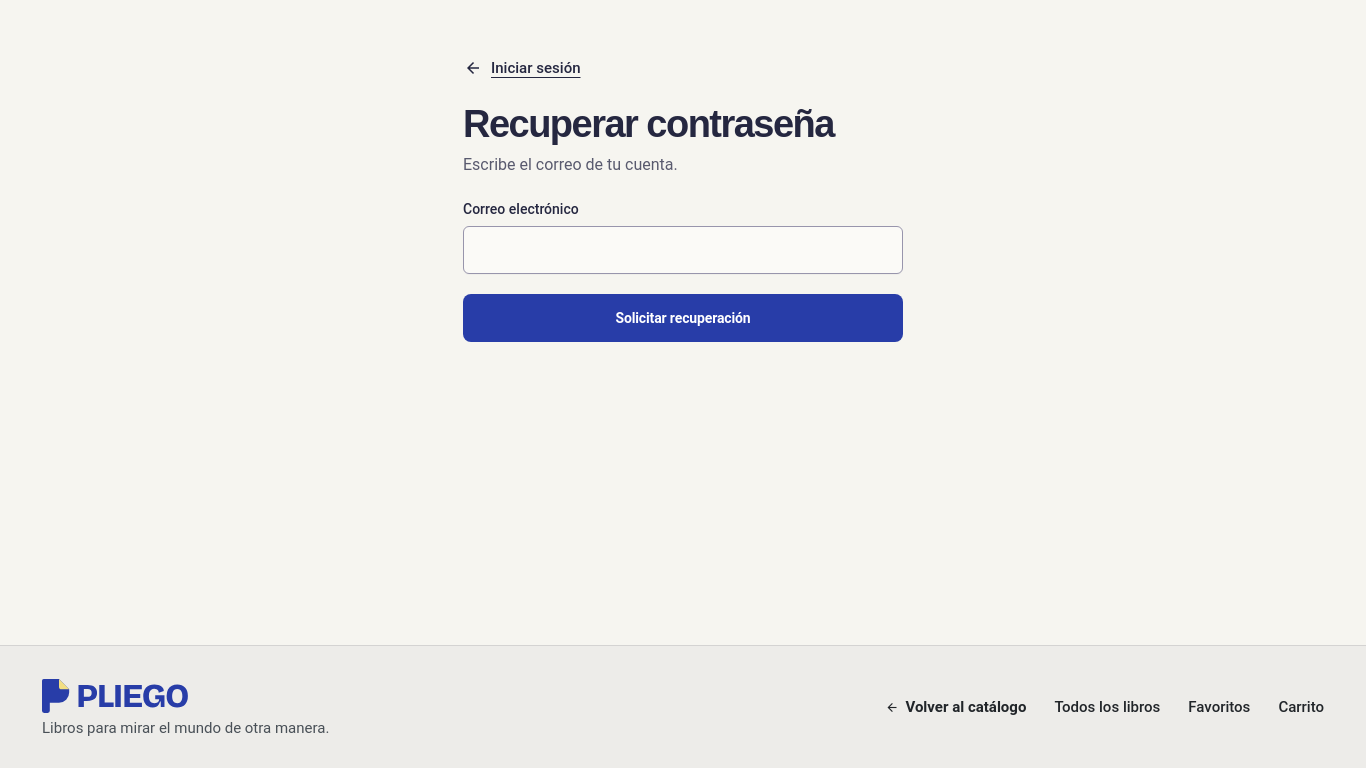
Test: customer email actions › validates then submits /recuperar-contrasena with neutral accepted feedback
Click the button "Solicitar recuperación" at (683, 318), box [463,294,903,342]
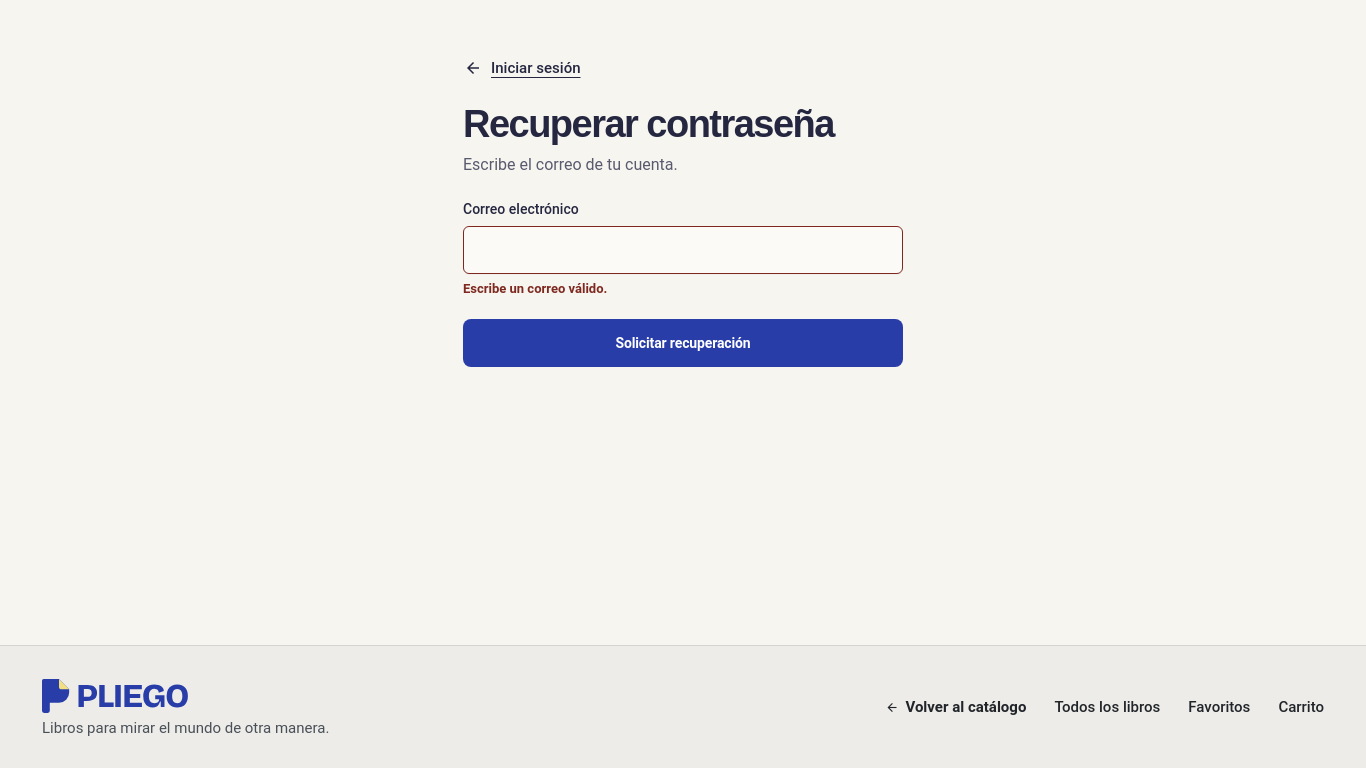
Check: the message reads "Escribe un correo válido.", box [463,281,607,296]
Type "ANA@EXAMPLE.COM" into the field labelled "Correo electrónico" at (683, 250), box [463,226,903,274]
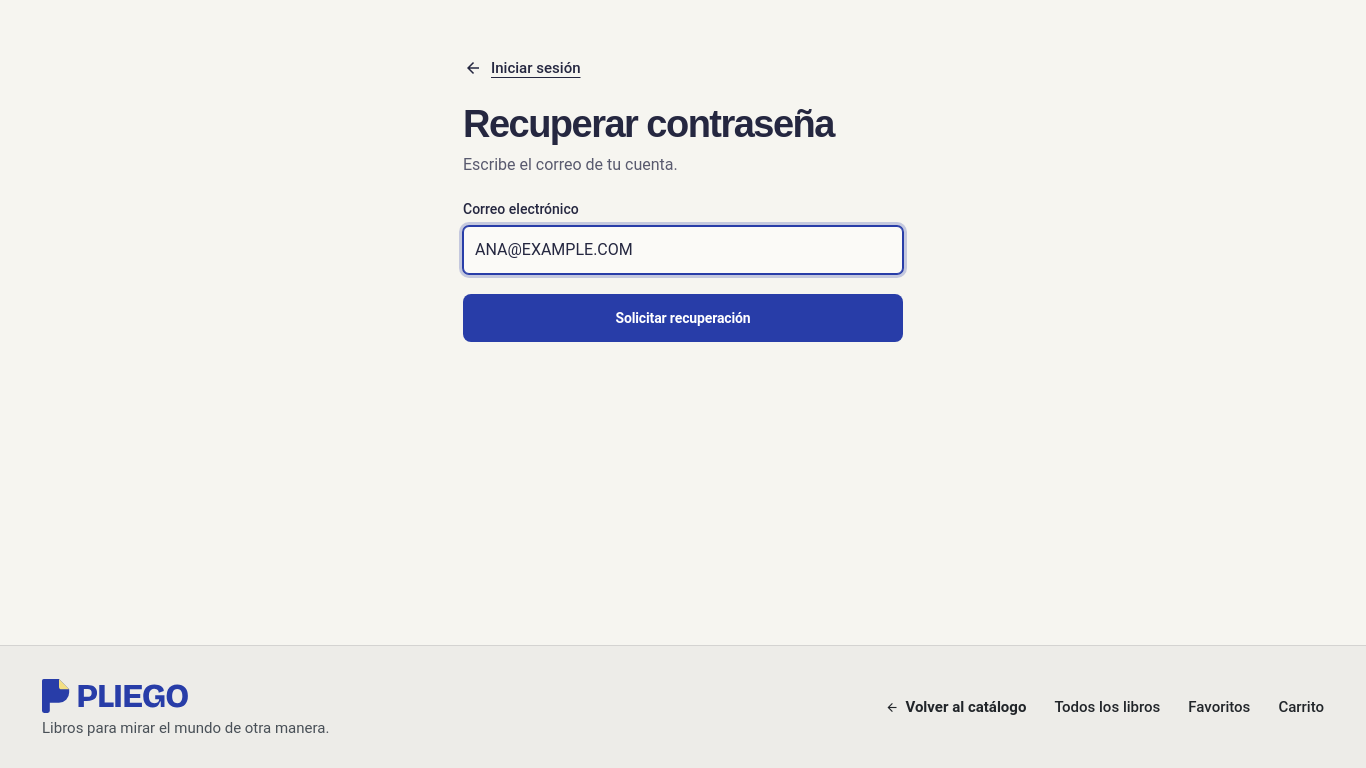
Click the button "Solicitar recuperación" at (683, 318), box [463,294,903,342]
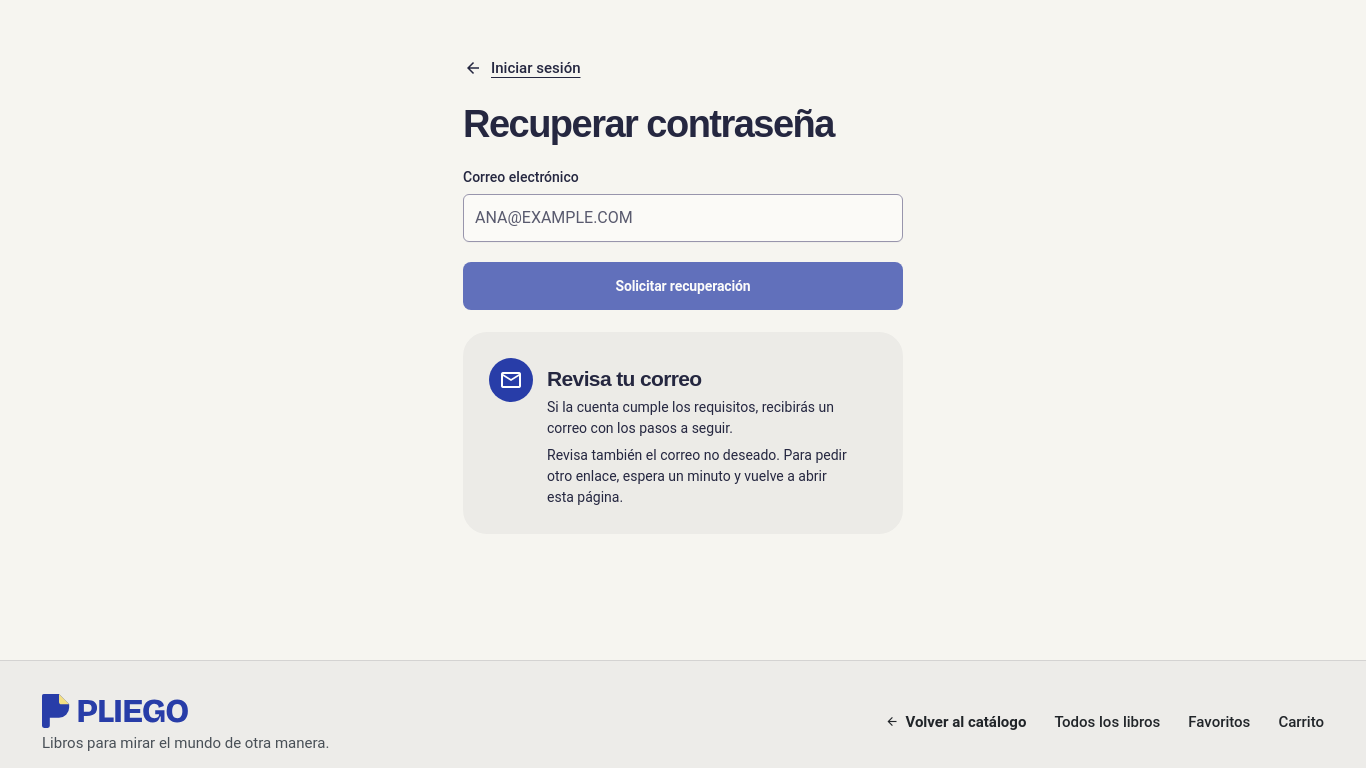
Check: the message shows "Si la cuenta cumple los requisitos", box [547,399,834,436]
Check: the button "Solicitar recuperación" is disabled, box [463,262,903,310]
